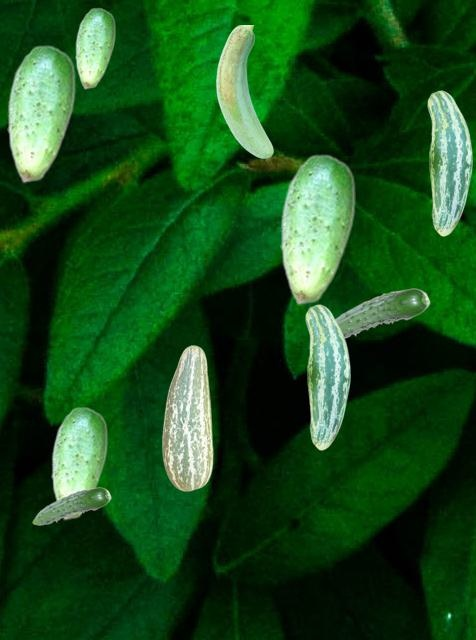cucumber: (280, 153, 354, 304), (7, 44, 74, 182), (216, 25, 272, 157), (162, 345, 212, 490), (305, 304, 349, 449), (427, 90, 471, 235), (51, 406, 106, 519), (336, 288, 429, 338), (75, 7, 114, 88), (32, 487, 110, 524)
